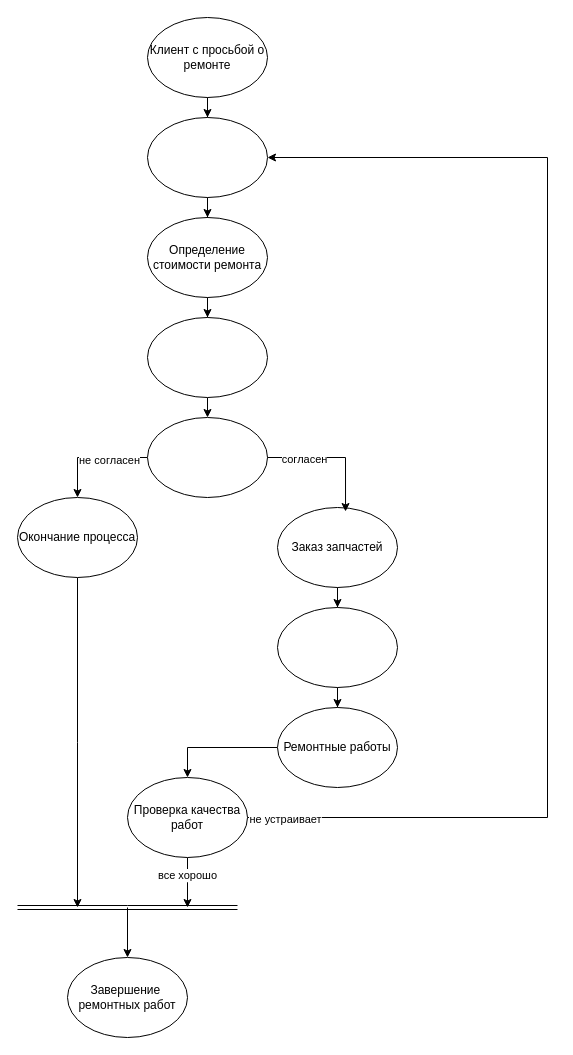
Image size: 573x1055. Some labels were removed from this diagram. The shapes that lost their labels are listed below. From the top down, each one's centre as x and y in pixels, then its label:
the point at 207,157: Диагностика автомобиля
the point at 207,357: Предоставление клиенту сметы
the point at 207,457: Согласование сметы с клиентом
the point at 337,647: Получение запчастей
